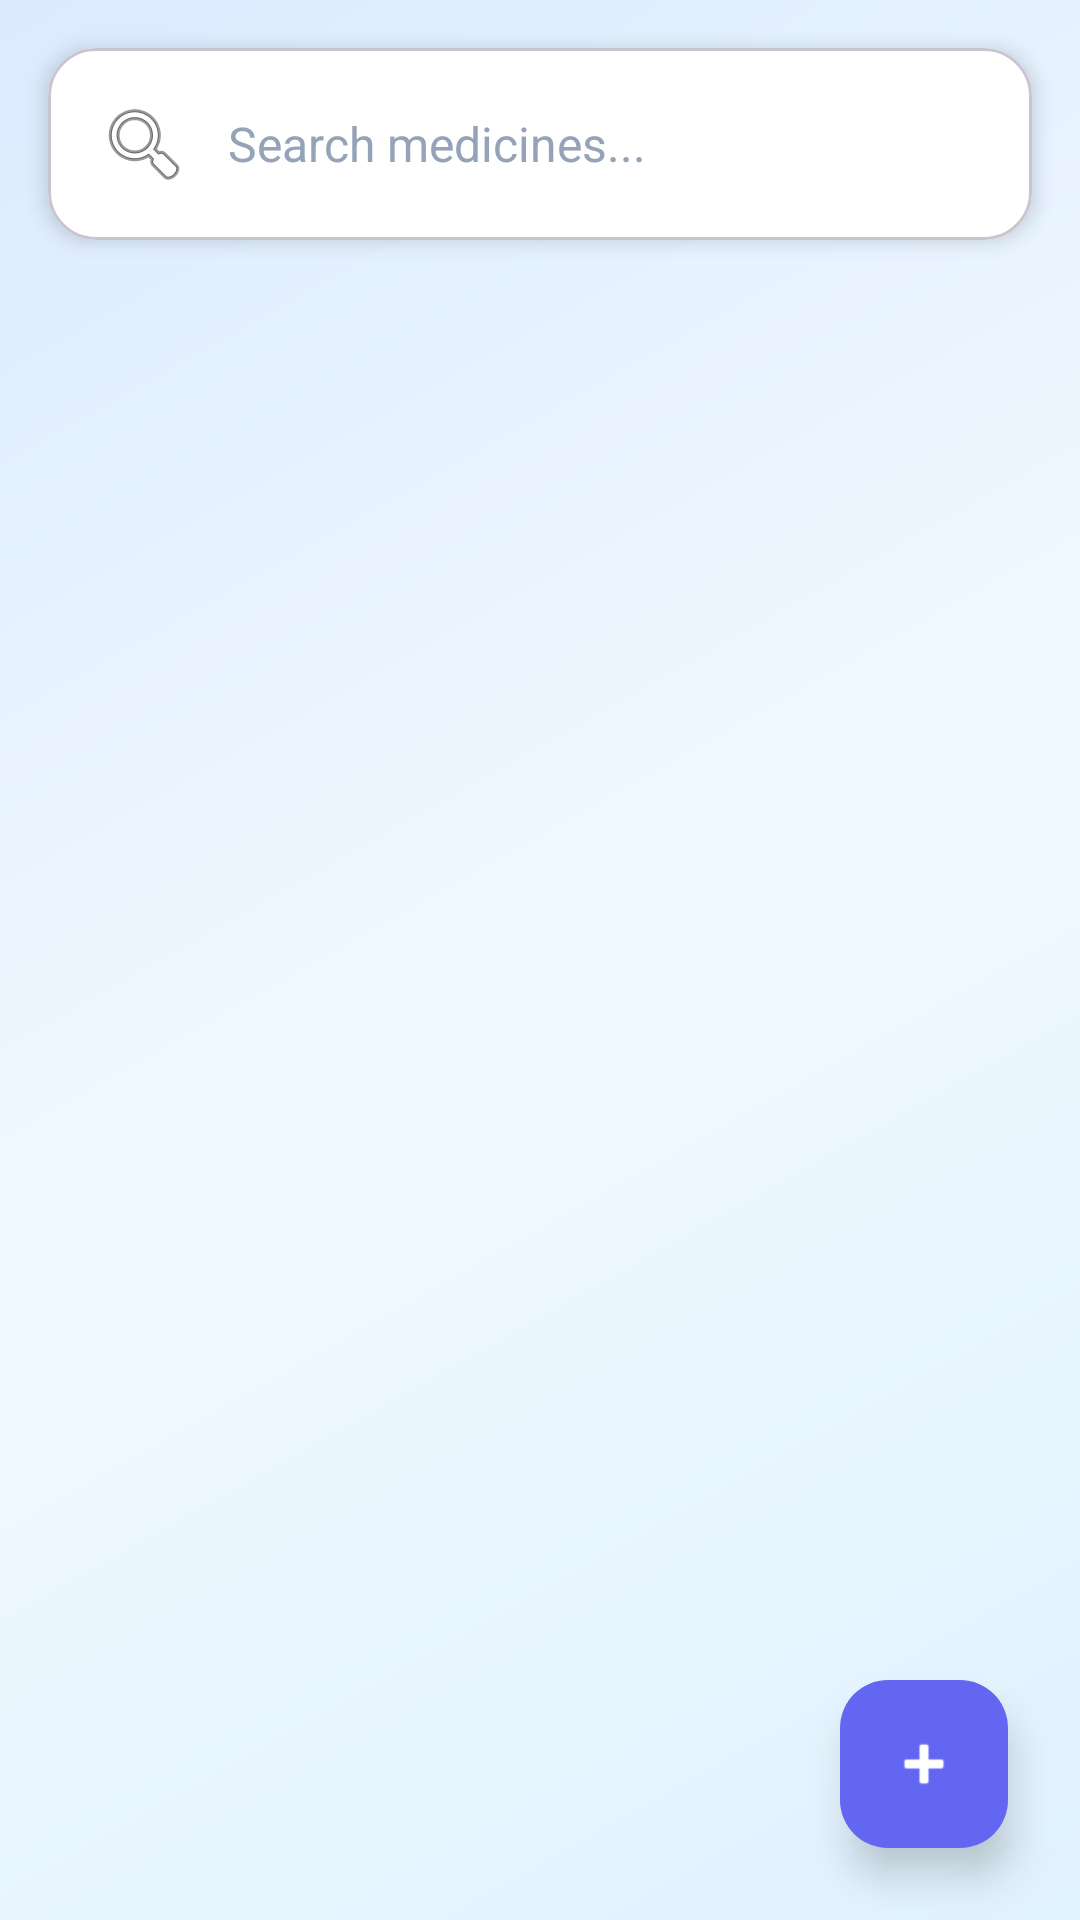

Icons on this 1080w x 1920h Android screen, each with the point to tap as (x,y):
Add Medicine: (924,1764)
